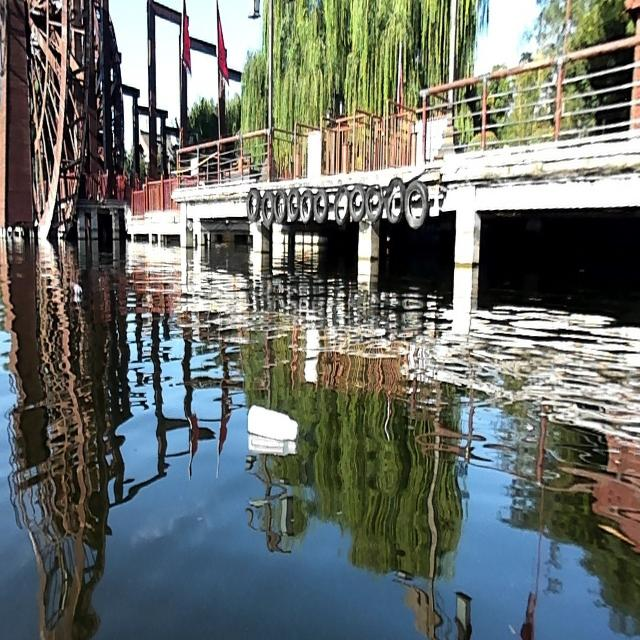bottle: (245, 398, 299, 439), (72, 280, 82, 296)
